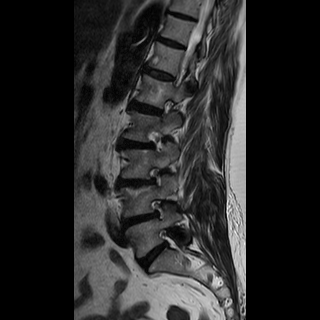LFS0: (141, 125, 171, 157), (153, 93, 181, 124), (142, 162, 171, 191), (146, 195, 172, 223)
